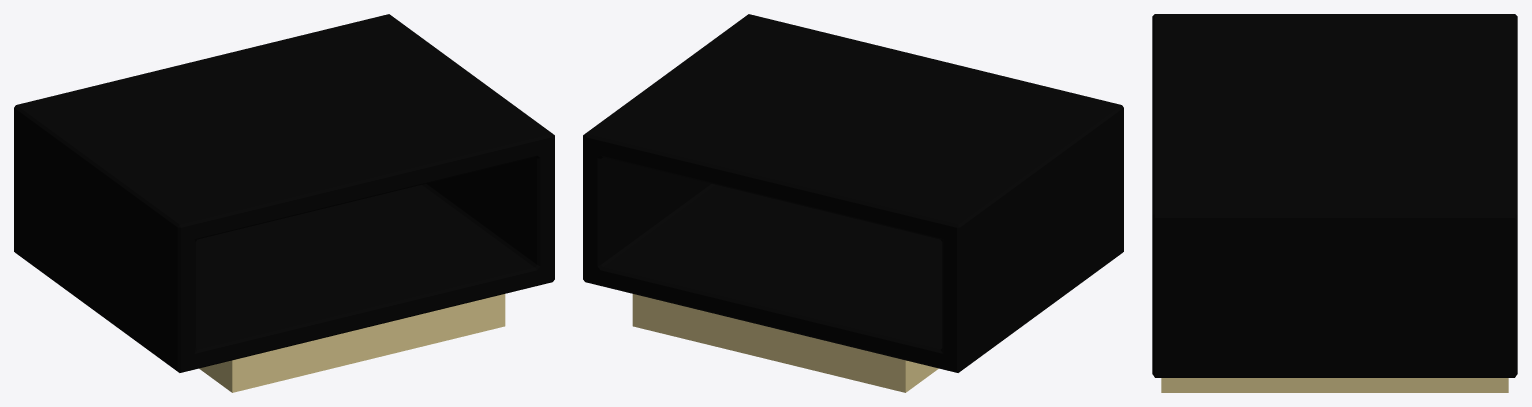
Rendered from Table_v2.fbx.
The picture shows the model from 3 angles, left to right: view 1: azimuth 30°, elevation 25°; view 2: azimuth 150°, elevation 25°; view 3: azimuth 270°, elevation 25°; orthographic projection. The views are drawn at different scales.
Parts seen in each view (by area): view 1: Black low table; view 2: Black low table; view 3: Black low table.
Boxes of the visible parts, x1,y1,x2,y2 form: Black low table: [14, 14, 554, 392]; Black low table: [583, 14, 1123, 392]; Black low table: [1152, 14, 1517, 392].
Bounding box in the file's own units: 250 × 116 × 190.
